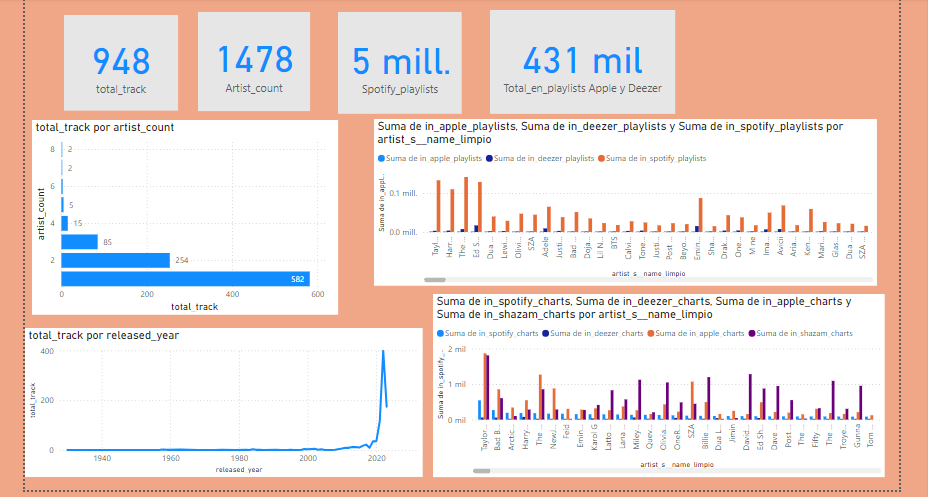

The page's visual inventory and layout, read from the dashboard file:
{"tool":"powerbi","page":{"name":"Dashboard 1","canvas":[1280,720],"ordinal":12},"visuals":[{"type":"card","fields":{"Values":["view_complete_table.total_track"]},"box":[57.1,24.9,166.8,140.5],"z":0},{"type":"card","fields":{"Values":["view_complete_table.artist_count"]},"box":[253.2,20.5,163.9,144.9],"z":1000},{"type":"card","fields":{"Values":["view_complete_table.in_spotify_playlists"]},"box":[458,20.5,181.5,149.3],"z":2000},{"type":"card","fields":{"Values":["view_complete_table.total_en_playlist"]},"box":[680.5,17.6,270.7,152.2],"z":3000},{"type":"clusteredBarChart","fields":{"Y":["view_complete_table.total_track"],"Category":["view_complete_table.artist_count"]},"box":[10.2,178.5,447.8,285.4],"z":4000},{"type":"lineChart","fields":{"Y":["view_complete_table.total_track"],"Category":["view_complete_table.released_year"]},"box":[0,482.9,582.4,218],"z":5000},{"type":"clusteredColumnChart","fields":{"Category":["view_complete_table.artist_s__name_limpio"],"Y":["view_complete_table.in_apple_playlists","view_complete_table.in_deezer_playlists","view_complete_table.in_spotify_playlists"]},"box":[510.7,177.1,736.1,244.4],"z":6000},{"type":"clusteredColumnChart","fields":{"Category":["view_complete_table.artist_s__name_limpio"],"Y":["view_complete_table.in_spotify_charts","view_complete_table.in_deezer_charts","view_complete_table.in_apple_charts","view_complete_table.in_shazam_charts"]},"box":[597.1,433.2,661.5,267.8],"z":7000}]}

Visuals, with their boxes on the page's 1280x720 design canvas (x1, y1, x2, y2). These are canvas units, not pixel positions in the 928x497 screenshot, which may show the page scaled, cropped or inside an application window:
card - view_complete_table.total_track: box=[57, 25, 224, 165]
card - view_complete_table.artist_count: box=[253, 20, 417, 165]
card - view_complete_table.in_spotify_playlists: box=[458, 20, 640, 170]
card - view_complete_table.total_en_playlist: box=[680, 18, 951, 170]
clusteredBarChart - view_complete_table.total_track x view_complete_table.artist_count: box=[10, 178, 458, 464]
lineChart - view_complete_table.total_track x view_complete_table.released_year: box=[0, 483, 582, 701]
clusteredColumnChart - view_complete_table.artist_s__name_limpio x view_complete_table.in_apple_playlists: box=[511, 177, 1247, 422]
clusteredColumnChart - view_complete_table.artist_s__name_limpio x view_complete_table.in_spotify_charts: box=[597, 433, 1259, 701]
